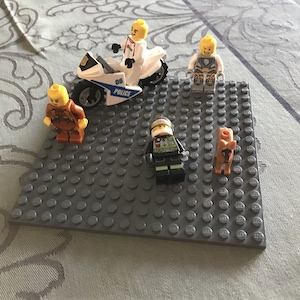Lego: (108, 17, 153, 94), (142, 115, 192, 182), (39, 83, 91, 146), (186, 32, 225, 96)
